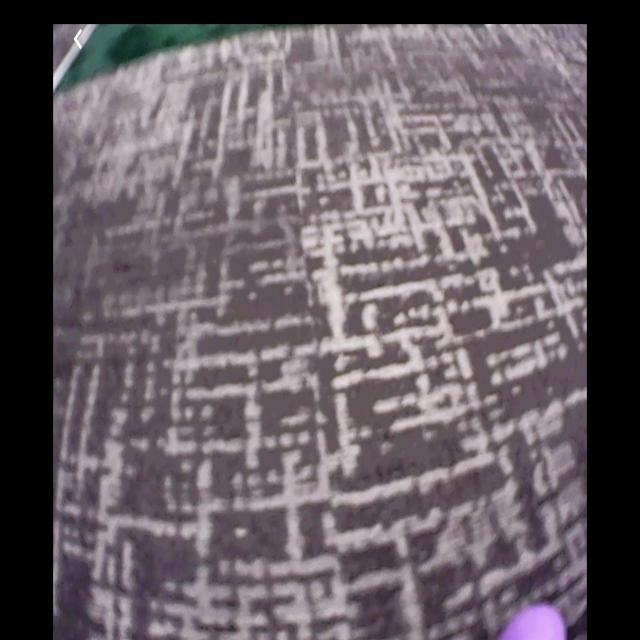ball: (497, 602, 567, 640)
